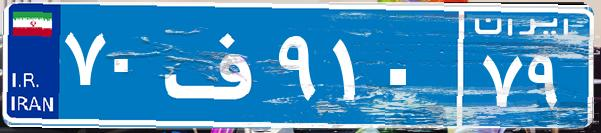0: (385, 28, 445, 110), (110, 28, 158, 105)
1: (330, 28, 385, 110)
7: (57, 26, 110, 107), (475, 38, 525, 113)
9: (273, 28, 330, 110), (525, 38, 570, 115)
ف: (158, 15, 273, 115)
